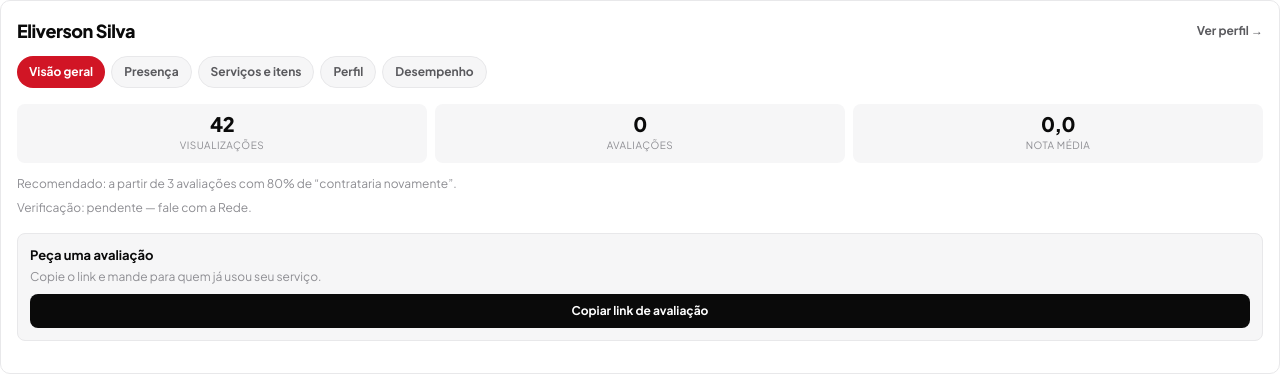
Test case: PainelClient — itens dentro do serviço › expande o serviço e lista o item com seu resumo de preço
Click the button "Serviços e itens". click: (256, 72)
box: [198,56,314,88]
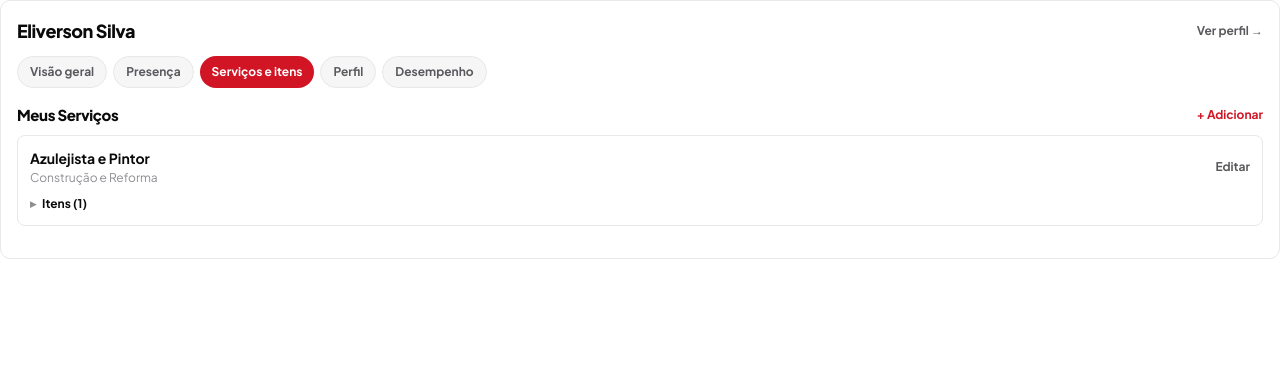
// Contador no toggle reflete 1 item.
Click the button "▸ Itens (1)". click: (58, 204)
box: [30,194,87,212]
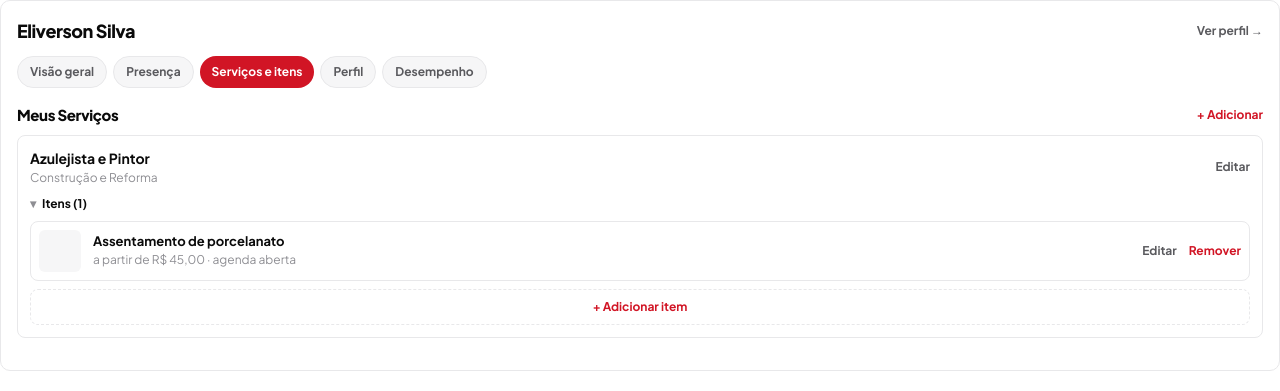
Check: the text "Assentamento de porcelanato" is shown, box [93,233,285,249]
Check: the text "a partir de R$ 45,00 · agenda aberta" is shown, box [93,252,296,267]
